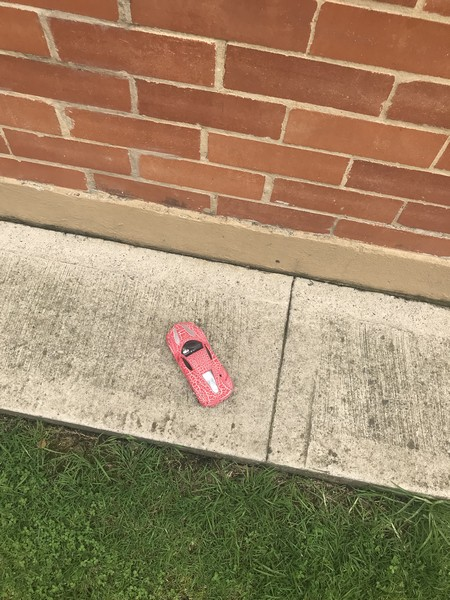RC: (162, 319, 235, 408)
